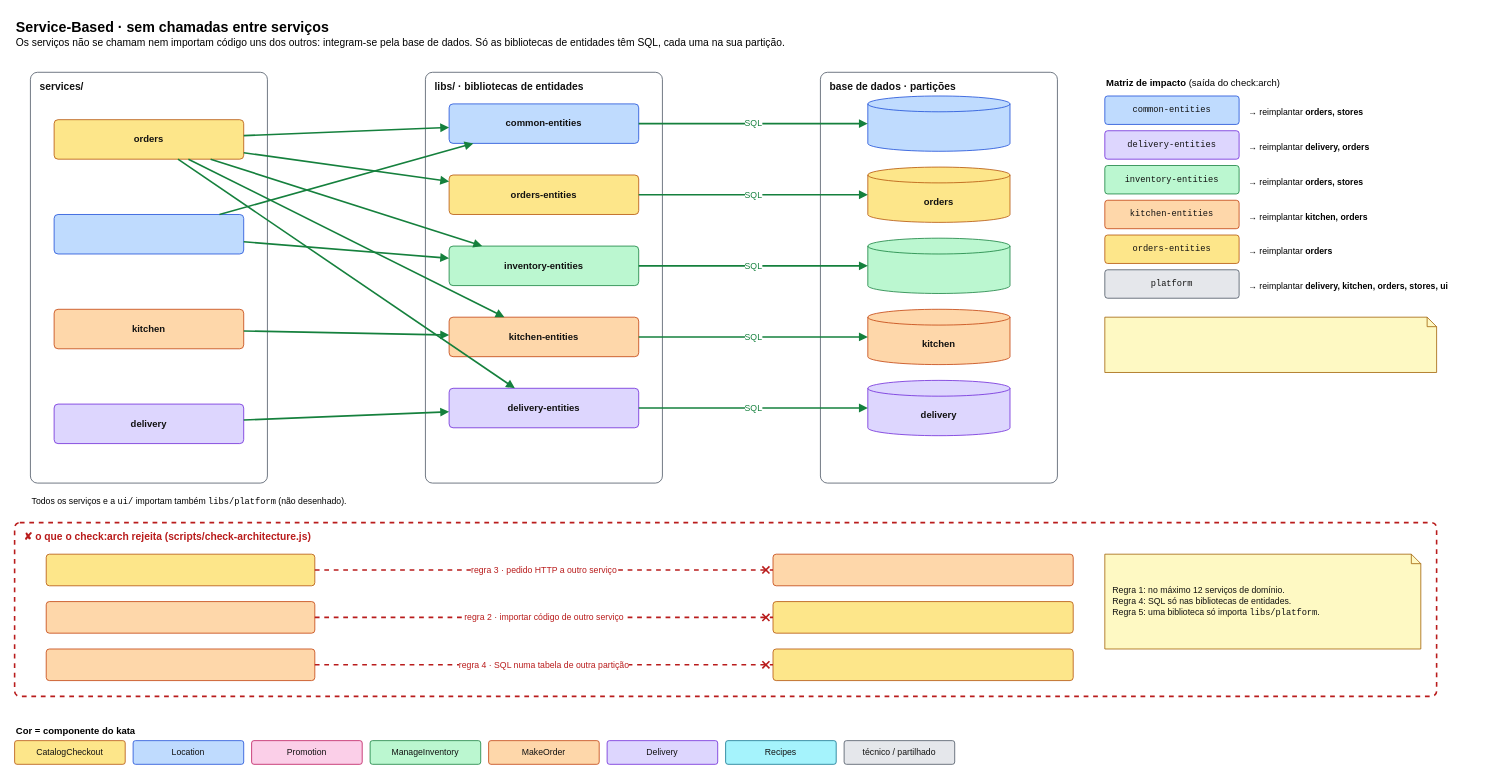
Some shapes in this 1497 by 778 pixel diagram are drawn without their labels. The shapes that lost their labels are listed below. From the top down, each one's centre as x and y in pixels, then its label:
the point at 938,123: common
the point at 148,234: stores
the point at 938,265: inventory
the point at 1270,344: O Orders aparece em todas as linhas: o checkout mexe em todas as partições.
the point at 180,569: services/orders
the point at 922,569: services/kitchen · fetch(…)
the point at 180,617: services/kitchen/src/…
the point at 922,617: services/orders/src/…
the point at 180,664: libs/kitchen-entities
the point at 922,664: tabela checkout_customer_order
